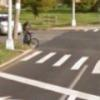bicycles: (22, 31, 40, 50)
crosswalks: (19, 49, 100, 75)
